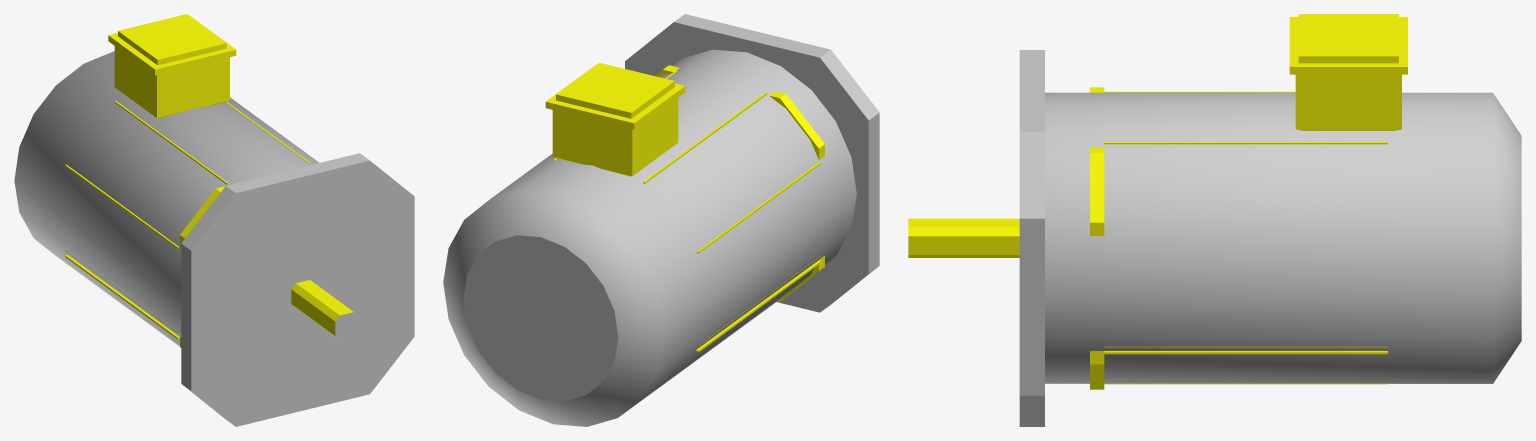
The model's file is sm_hana_bas_geothermal_primary_pump.glb.
3 views of the same model, side by side, from view 1: azimuth 30°, elevation 25°; view 2: azimuth 150°, elevation 25°; view 3: azimuth 270°, elevation 25° (orthographic). The views are drawn at different scales.
Visible parts, largest first — view 1: sm_color_common, sm_hana_bas_geothermal_primary_pump; view 2: sm_color_common, sm_hana_bas_geothermal_primary_pump; view 3: sm_color_common, sm_hana_bas_geothermal_primary_pump.
Part boxes in pixels (x1,y1,x2,y2): sm_color_common: (14, 51, 414, 426); sm_hana_bas_geothermal_primary_pump: (65, 14, 353, 347); sm_color_common: (443, 14, 879, 426); sm_hana_bas_geothermal_primary_pump: (545, 62, 824, 352); sm_color_common: (1019, 50, 1521, 426); sm_hana_bas_geothermal_primary_pump: (908, 14, 1407, 389).
Bounding box in the file's own units: 0.3244 × 0.3859 × 0.6118.
2 materials, 1 textured.
